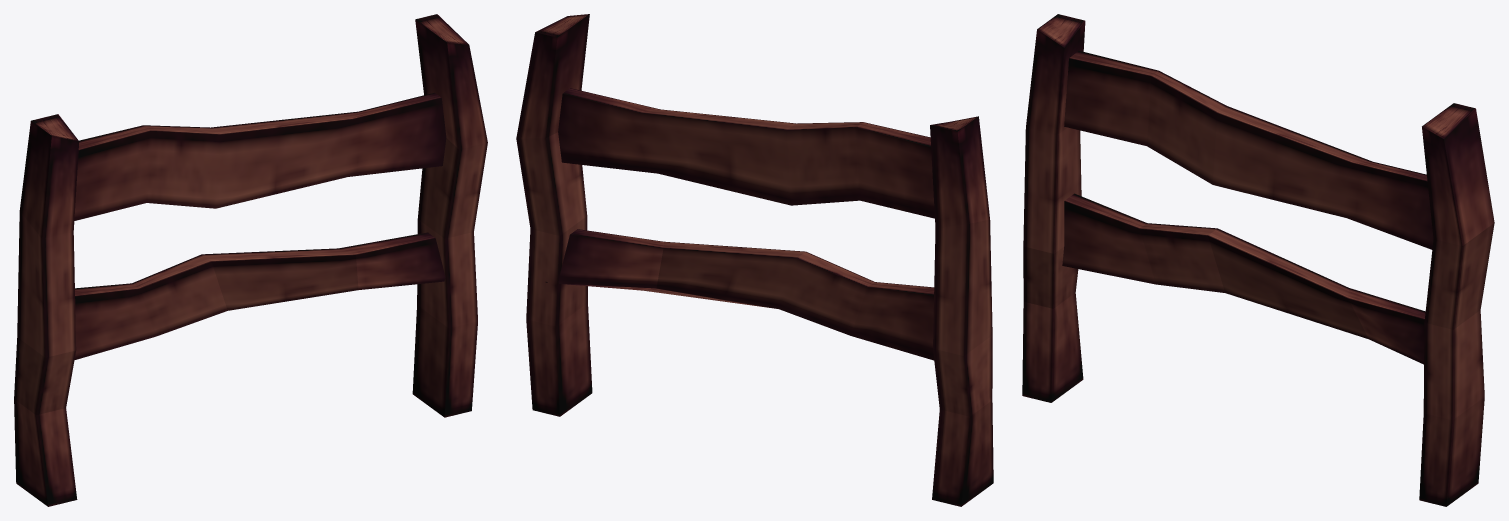
The model's file is fence1.glb.
3 views of the same model, side by side, from view 1: azimuth 30°, elevation 25°; view 2: azimuth 150°, elevation 25°; view 3: azimuth 330°, elevation 25° (orthographic).
Visible parts, largest first — view 1: Cube.001, Cube.006, Cube.002, Cube.007; view 2: Cube.001, Cube.002, Cube.006, Cube.007; view 3: Cube.001, Cube.007, Cube.002, Cube.006.
Boxes of the visible parts, x1=… form: Cube.001: x1=74, y1=92, x2=446, y2=220; Cube.006: x1=14, y1=114, x2=79, y2=506; Cube.002: x1=74, y1=232, x2=445, y2=359; Cube.007: x1=412, y1=14, x2=487, y2=417; Cube.001: x1=558, y1=88, x2=934, y2=218; Cube.002: x1=545, y1=229, x2=934, y2=360; Cube.006: x1=930, y1=116, x2=993, y2=506; Cube.007: x1=516, y1=14, x2=592, y2=416; Cube.001: x1=1064, y1=51, x2=1433, y2=249; Cube.007: x1=1419, y1=103, x2=1494, y2=506; Cube.002: x1=1062, y1=193, x2=1425, y2=364; Cube.006: x1=1022, y1=14, x2=1085, y2=402.
Bounding box in the file's own units: 0.6336 × 0.5089 × 0.0793.
4 materials, 4 textured.
